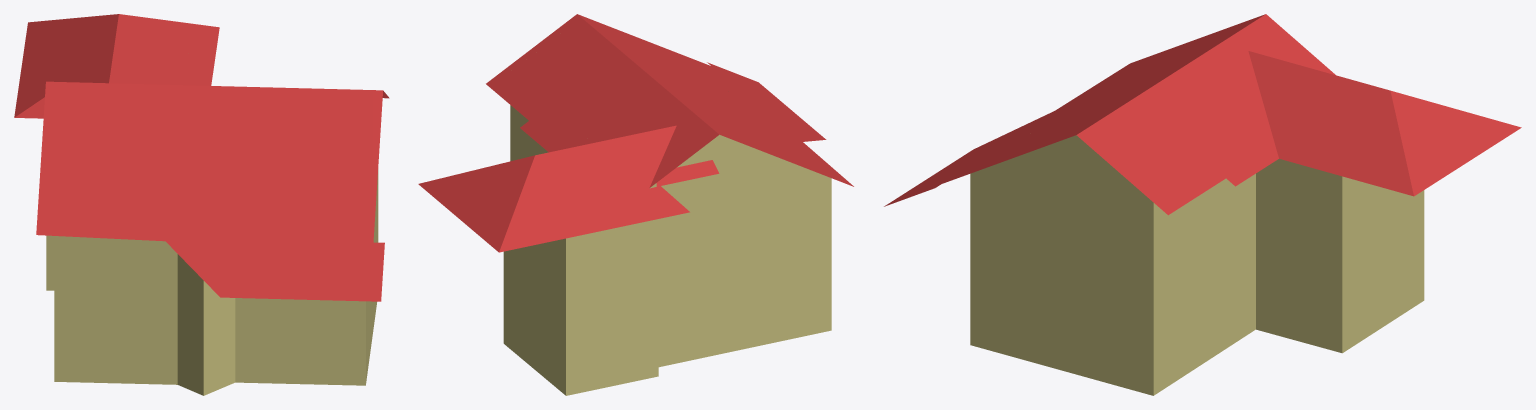
The picture shows the model from 3 angles, left to right: view 1: azimuth 30°, elevation 25°; view 2: azimuth 150°, elevation 25°; view 3: azimuth 270°, elevation 25°; orthographic projection. The views are drawn at different scales.
Size of the model in its own units: 17.5 by 25.57 by 10.8.
